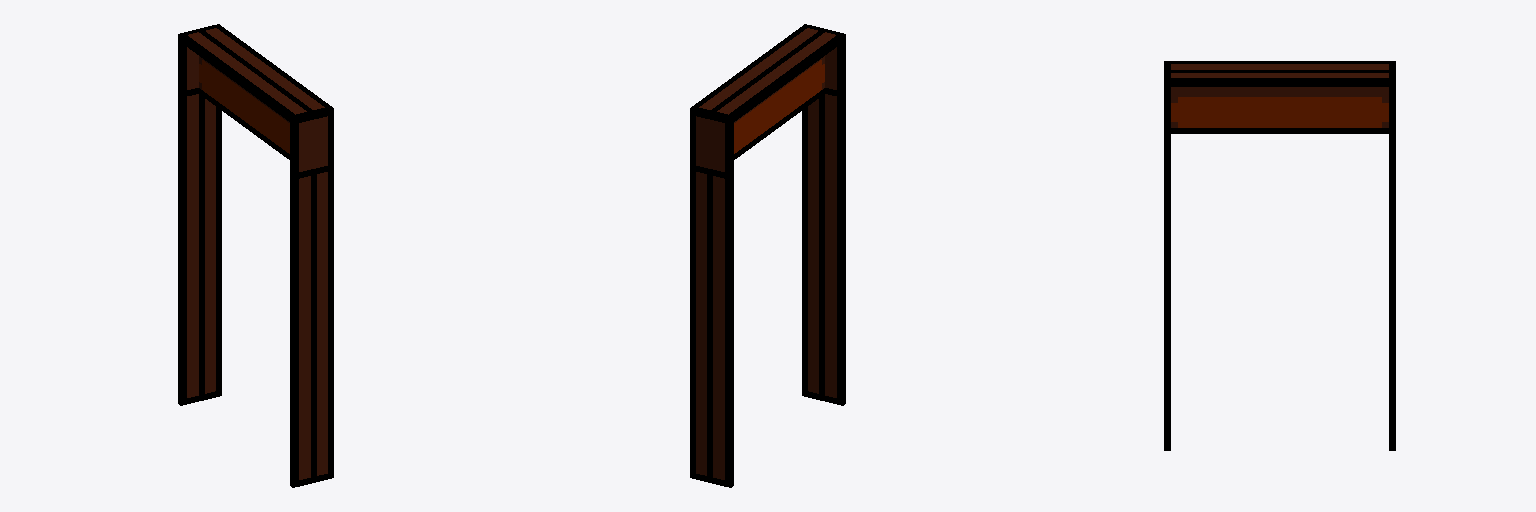
The picture shows the model from 3 angles: view 1: azimuth 30°, elevation 25°; view 2: azimuth 150°, elevation 25°; view 3: azimuth 270°, elevation 25°; orthographic projection.
Visible parts, largest first — view 1: DoorFrame.001; view 2: DoorFrame.001; view 3: DoorFrame.001.
Part boxes in pixels (bbox=[...]): DoorFrame.001: bbox=[178, 24, 333, 487]; DoorFrame.001: bbox=[690, 24, 845, 487]; DoorFrame.001: bbox=[1164, 61, 1395, 450].
Bounding box in the file's own units: 0.7 × 6 × 3.4.
1 materials, 1 textured.